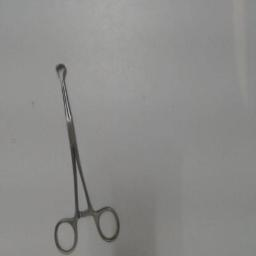Babcock Tissue Forceps: (52, 59, 124, 255)
